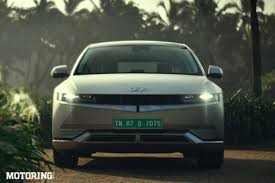Honda Ioniq: (37, 36, 234, 174)
